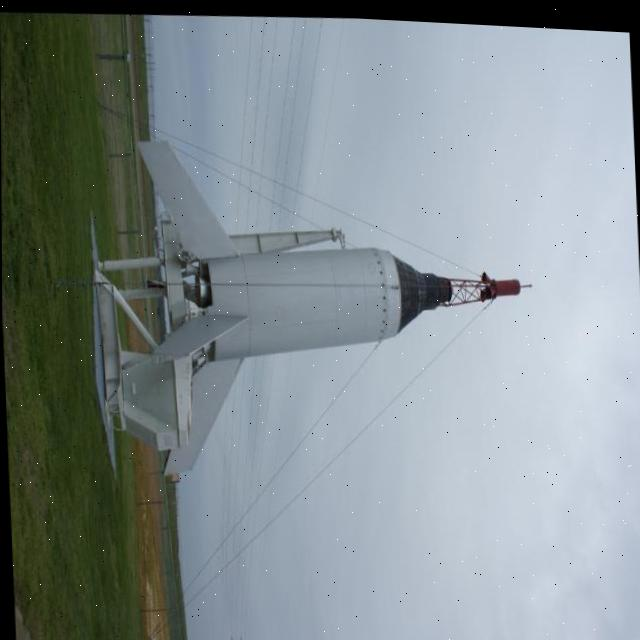missile: (85, 112, 545, 500)
